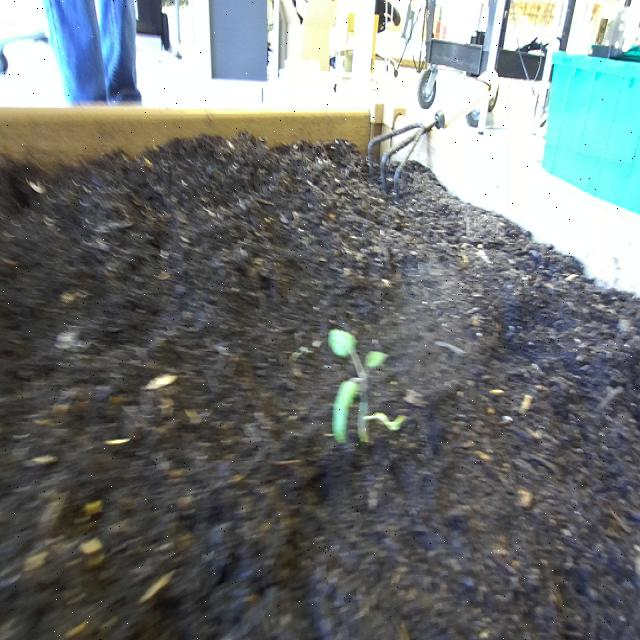Healthy: (316, 314, 414, 474)
